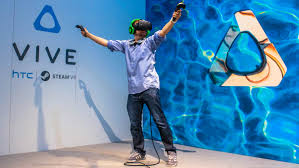oculus: (132, 19, 154, 33)
